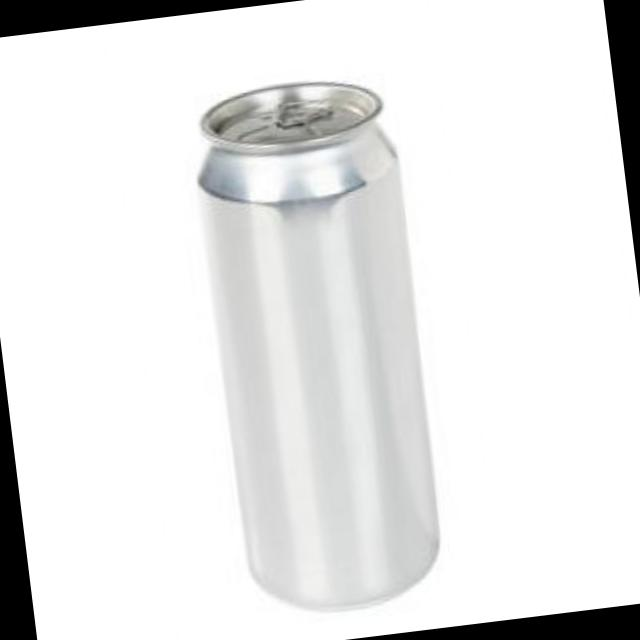metal: (196, 80, 435, 605)
